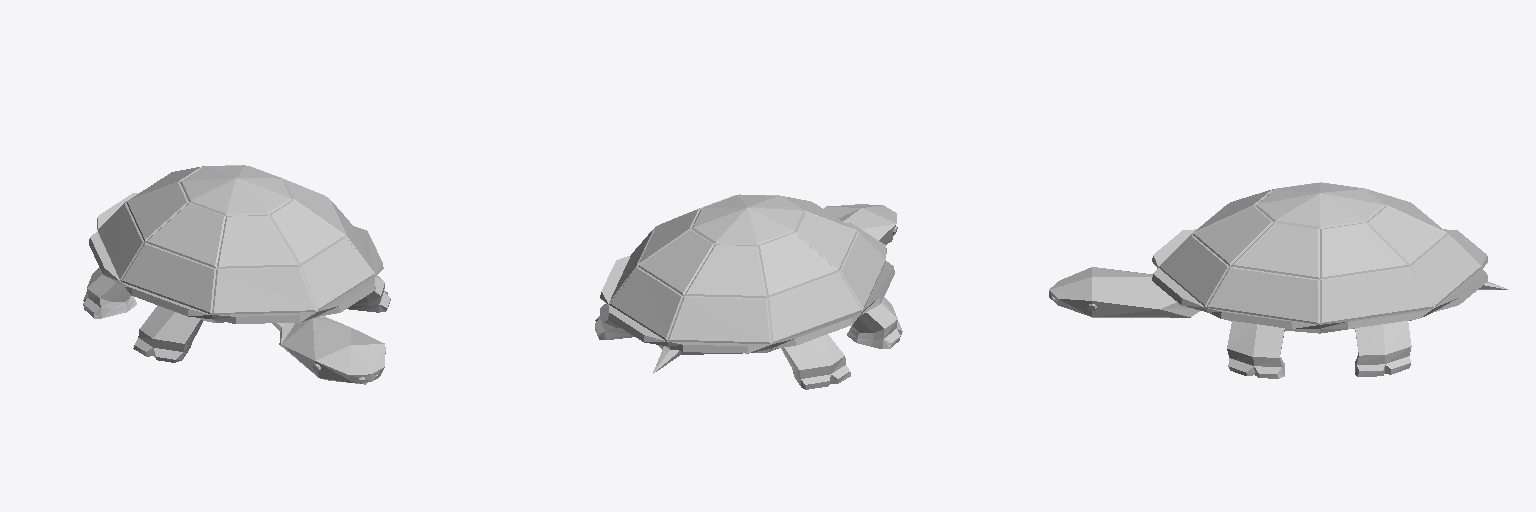
The model's file is turtle.obj.
3 renders of one model, left to right at view 1: azimuth 30°, elevation 25°; view 2: azimuth 150°, elevation 25°; view 3: azimuth 270°, elevation 25°, orthographic.
Visible parts, largest first — view 1: Turtle_01_Circle.009; view 2: Turtle_01_Circle.009; view 3: Turtle_01_Circle.009.
Boxes of the visible parts, box(x1,y1,x2,y2) form: Turtle_01_Circle.009: box(83, 165, 390, 384); Turtle_01_Circle.009: box(595, 194, 902, 389); Turtle_01_Circle.009: box(1049, 182, 1508, 378).
Bounding box in the file's own units: 8.94 × 4.41 × 14.6.